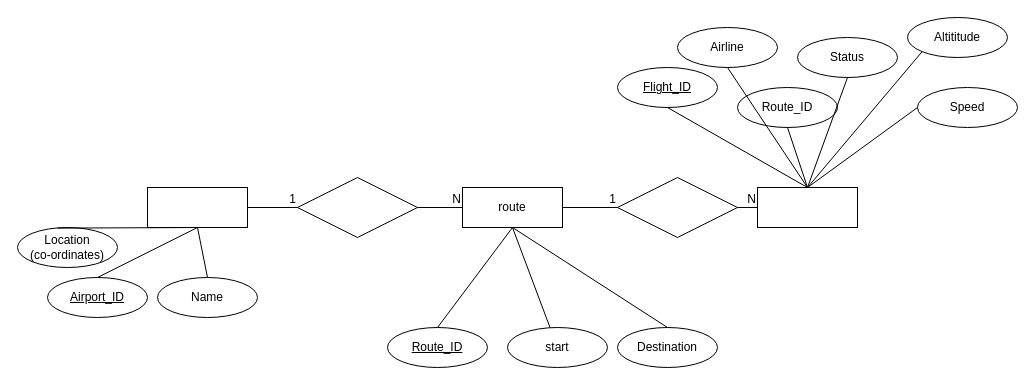
Image size: 1035x385. Some labels were removed from this diagram. Each missing label, with the centre of its shape:
Airport: (x=197, y=207)
flight: (x=807, y=207)
follows: (x=677, y=207)
source/destination: (x=357, y=207)
